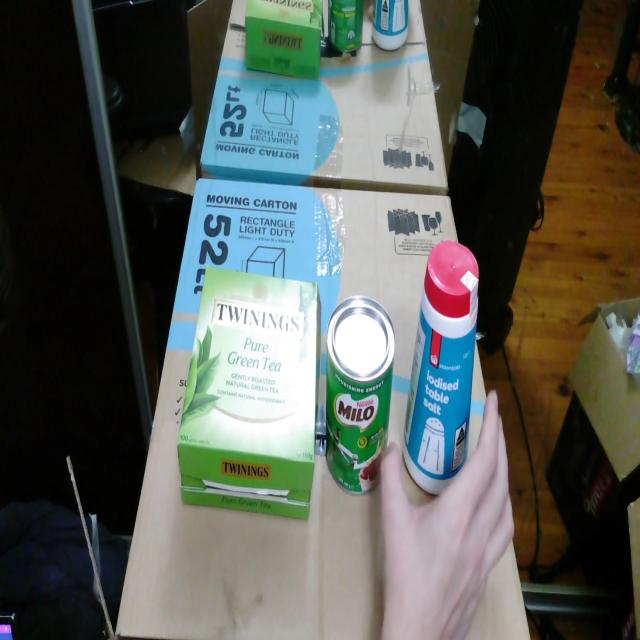nestle_milo_tin: (326, 295, 397, 494)
twinings_greentea_box: (177, 267, 322, 519)
woolworths_salt_bottle: (403, 240, 479, 494)
